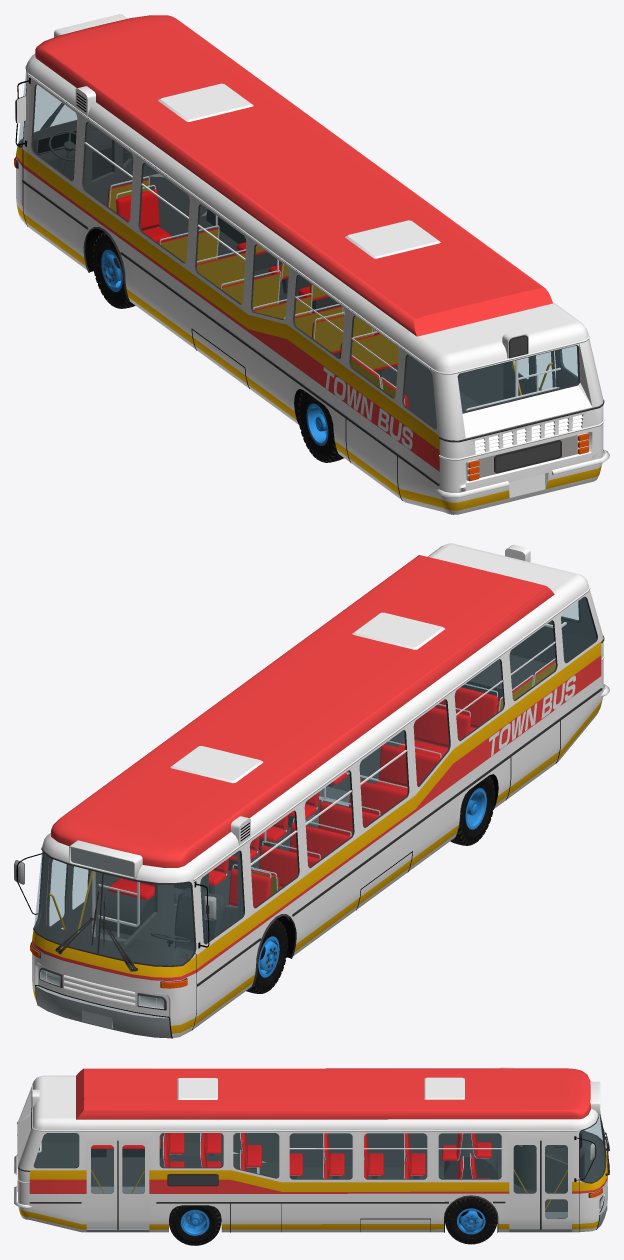
The model's file is bus.glb.
The picture shows the model from 3 angles, top to bottom: view 1: azimuth 30°, elevation 25°; view 2: azimuth 150°, elevation 25°; view 3: azimuth 270°, elevation 25°; orthographic projection. The views are drawn at different scales.
Parts seen in each view (by area): view 1: Object_25, Object_34, Object_16, Object_22, Object_33, Object_35, Object_23, Object_27, Object_32, Object_24, Object_14, Object_11 (+6 smaller); view 2: Object_34, Object_25, Object_16, Object_24, Object_22, Object_33, Object_27, Object_23, Object_17, Object_26, Object_14, Object_9 (+8 smaller); view 3: Object_25, Object_34, Object_16, Object_22, Object_27, Object_33, Object_24, Object_23, Object_10, Object_12, Object_32, Object_17 (+4 smaller).
Boxes of the visible parts, left/top/right/bottom form: Object_25: left=16, top=53, right=603, bottom=514; Object_34: left=16, top=15, right=552, bottom=471; Object_16: left=18, top=72, right=578, bottom=427; Object_22: left=15, top=84, right=577, bottom=429; Object_33: left=16, top=146, right=601, bottom=510; Object_35: left=108, top=180, right=552, bottom=405; Object_23: left=17, top=66, right=604, bottom=486; Object_27: left=33, top=124, right=577, bottom=401; Object_32: left=27, top=73, right=609, bottom=497; Object_24: left=107, top=179, right=408, bottom=408; Object_14: left=298, top=390, right=343, bottom=462; Object_11: left=92, top=232, right=135, bottom=308; Object_34: left=32, top=555, right=601, bottom=980; Object_25: left=32, top=543, right=603, bottom=1038; Object_16: left=34, top=597, right=595, bottom=1008; Object_24: left=108, top=661, right=555, bottom=907; Object_22: left=16, top=597, right=597, bottom=1010; Object_33: left=32, top=641, right=602, bottom=1033; Object_27: left=36, top=596, right=596, bottom=947; Object_23: left=33, top=599, right=604, bottom=987; Object_17: left=35, top=772, right=378, bottom=1038; Object_26: left=69, top=622, right=566, bottom=983; Object_14: left=450, top=775, right=495, bottom=845; Object_9: left=16, top=658, right=555, bottom=1007; Object_25: left=18, top=1067, right=607, bottom=1232; Object_34: left=29, top=1068, right=607, bottom=1193; Object_16: left=34, top=1113, right=605, bottom=1217; Object_22: left=33, top=1119, right=609, bottom=1218; Object_27: left=41, top=1119, right=587, bottom=1192; Object_33: left=19, top=1149, right=607, bottom=1229; Object_24: left=91, top=1133, right=491, bottom=1178; Object_23: left=17, top=1091, right=609, bottom=1232; Object_10: left=445, top=1196, right=497, bottom=1244; Object_12: left=169, top=1205, right=221, bottom=1245; Object_32: left=14, top=1083, right=577, bottom=1208; Object_17: left=86, top=1152, right=607, bottom=1232.
Bounding box in the file's own units: 2.87 × 2.91 × 11.78.
20 materials, 3 textured.
